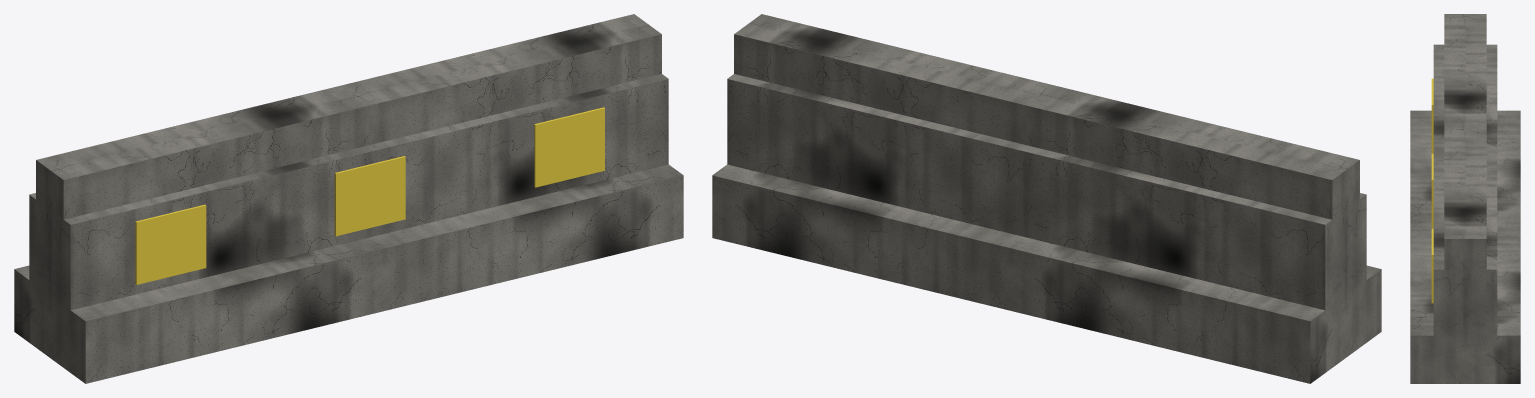
Rendered from barrier.glb.
The picture shows the model from 3 angles, left to right: view 1: azimuth 30°, elevation 25°; view 2: azimuth 150°, elevation 25°; view 3: azimuth 270°, elevation 25°; orthographic projection. The views are drawn at different scales.
Visible parts, largest first — view 1: barrier; view 2: barrier; view 3: barrier.
Part boxes in pixels (box(x1,y1,x2,y2)): barrier: box(14, 14, 683, 383); barrier: box(712, 14, 1381, 383); barrier: box(1410, 14, 1520, 383).
Bounding box in the file's own units: 3 × 0.9 × 0.62.
Materials: 2 (1 with a texture image).
